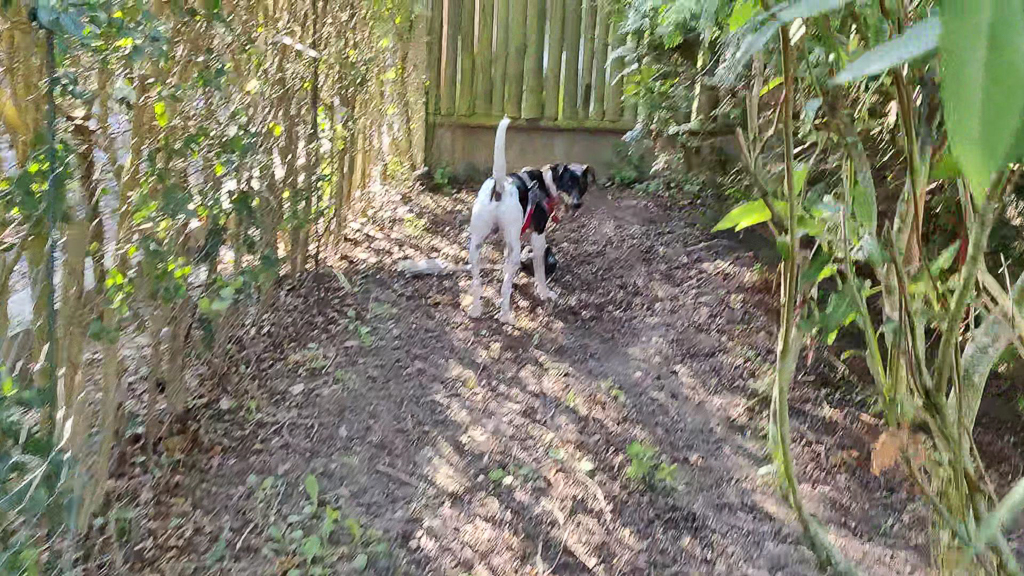Dog: (441, 97, 615, 336)
